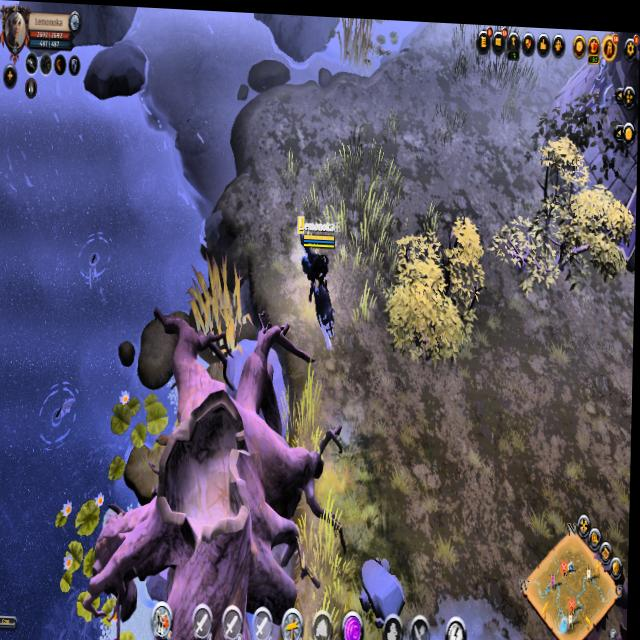fish: (34, 374, 85, 451), (72, 227, 118, 290)
rock tier 1: (362, 548, 410, 611)
